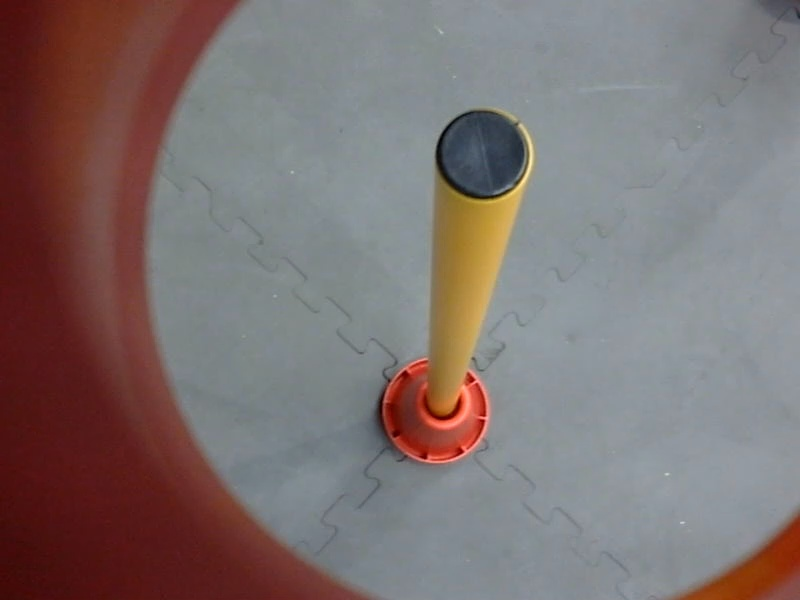tip: (427, 97, 539, 208)
